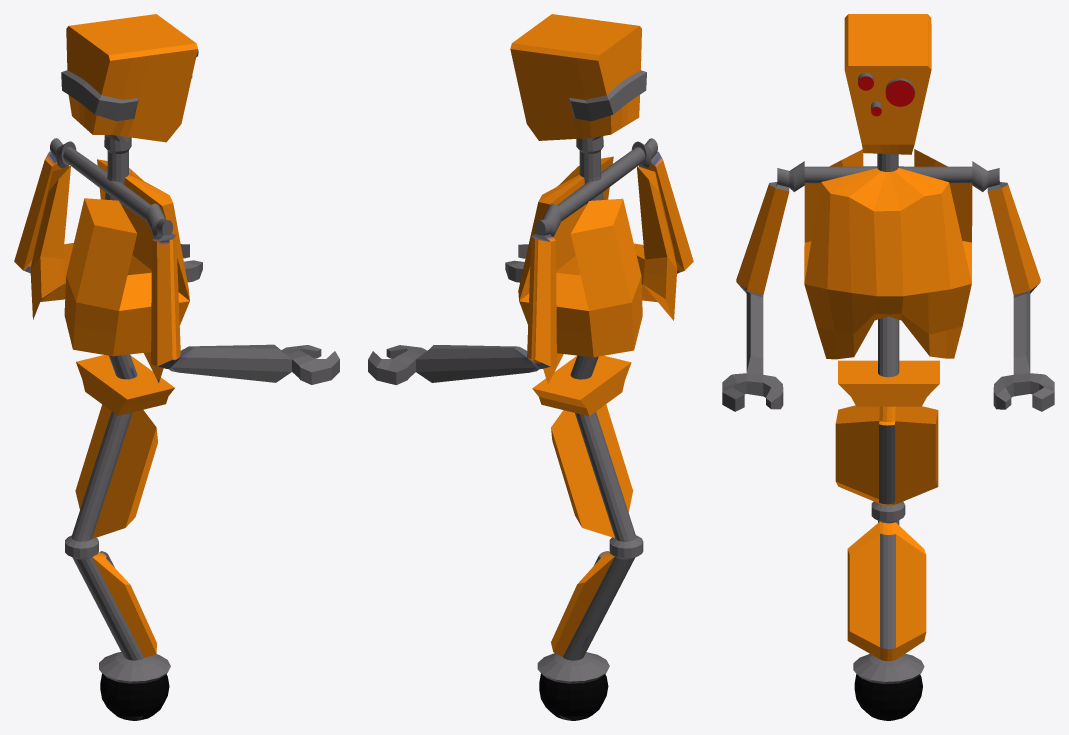
File: player_orange.obj
3 views of the same model, side by side, from view 1: azimuth 30°, elevation 25°; view 2: azimuth 150°, elevation 25°; view 3: azimuth 270°, elevation 25° (orthographic).
Visible parts, largest first — view 1: Sphere_Sphere.002; view 2: Sphere_Sphere.002; view 3: Sphere_Sphere.002.
Boxes of the visible parts, left/top/right/bottom form: Sphere_Sphere.002: left=14, top=14, right=339, bottom=720; Sphere_Sphere.002: left=368, top=14, right=693, bottom=720; Sphere_Sphere.002: left=722, top=14, right=1054, bottom=720.
Size of the model in its own units: 6.9 by 21.73 by 9.61.
Materials: 1 (1 with a texture image).
